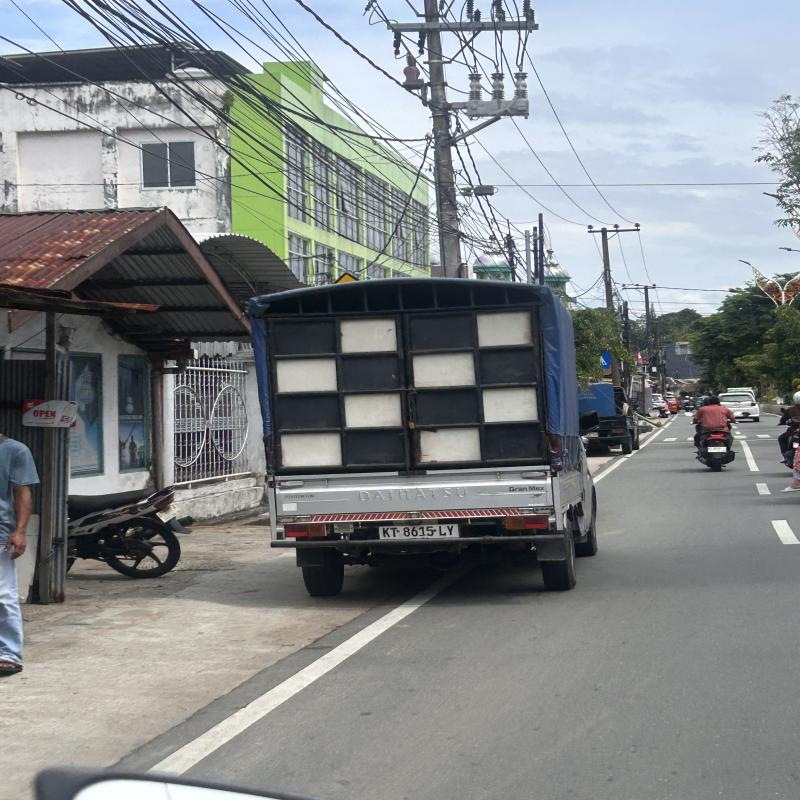license plate on a car: (378, 524, 459, 540)
